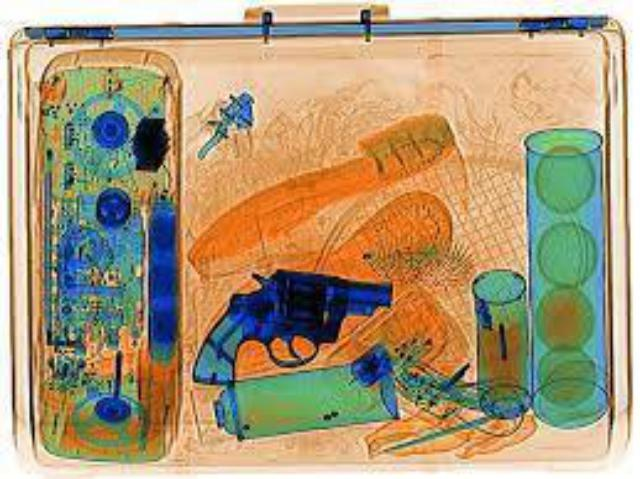Gun: (186, 264, 390, 384)
